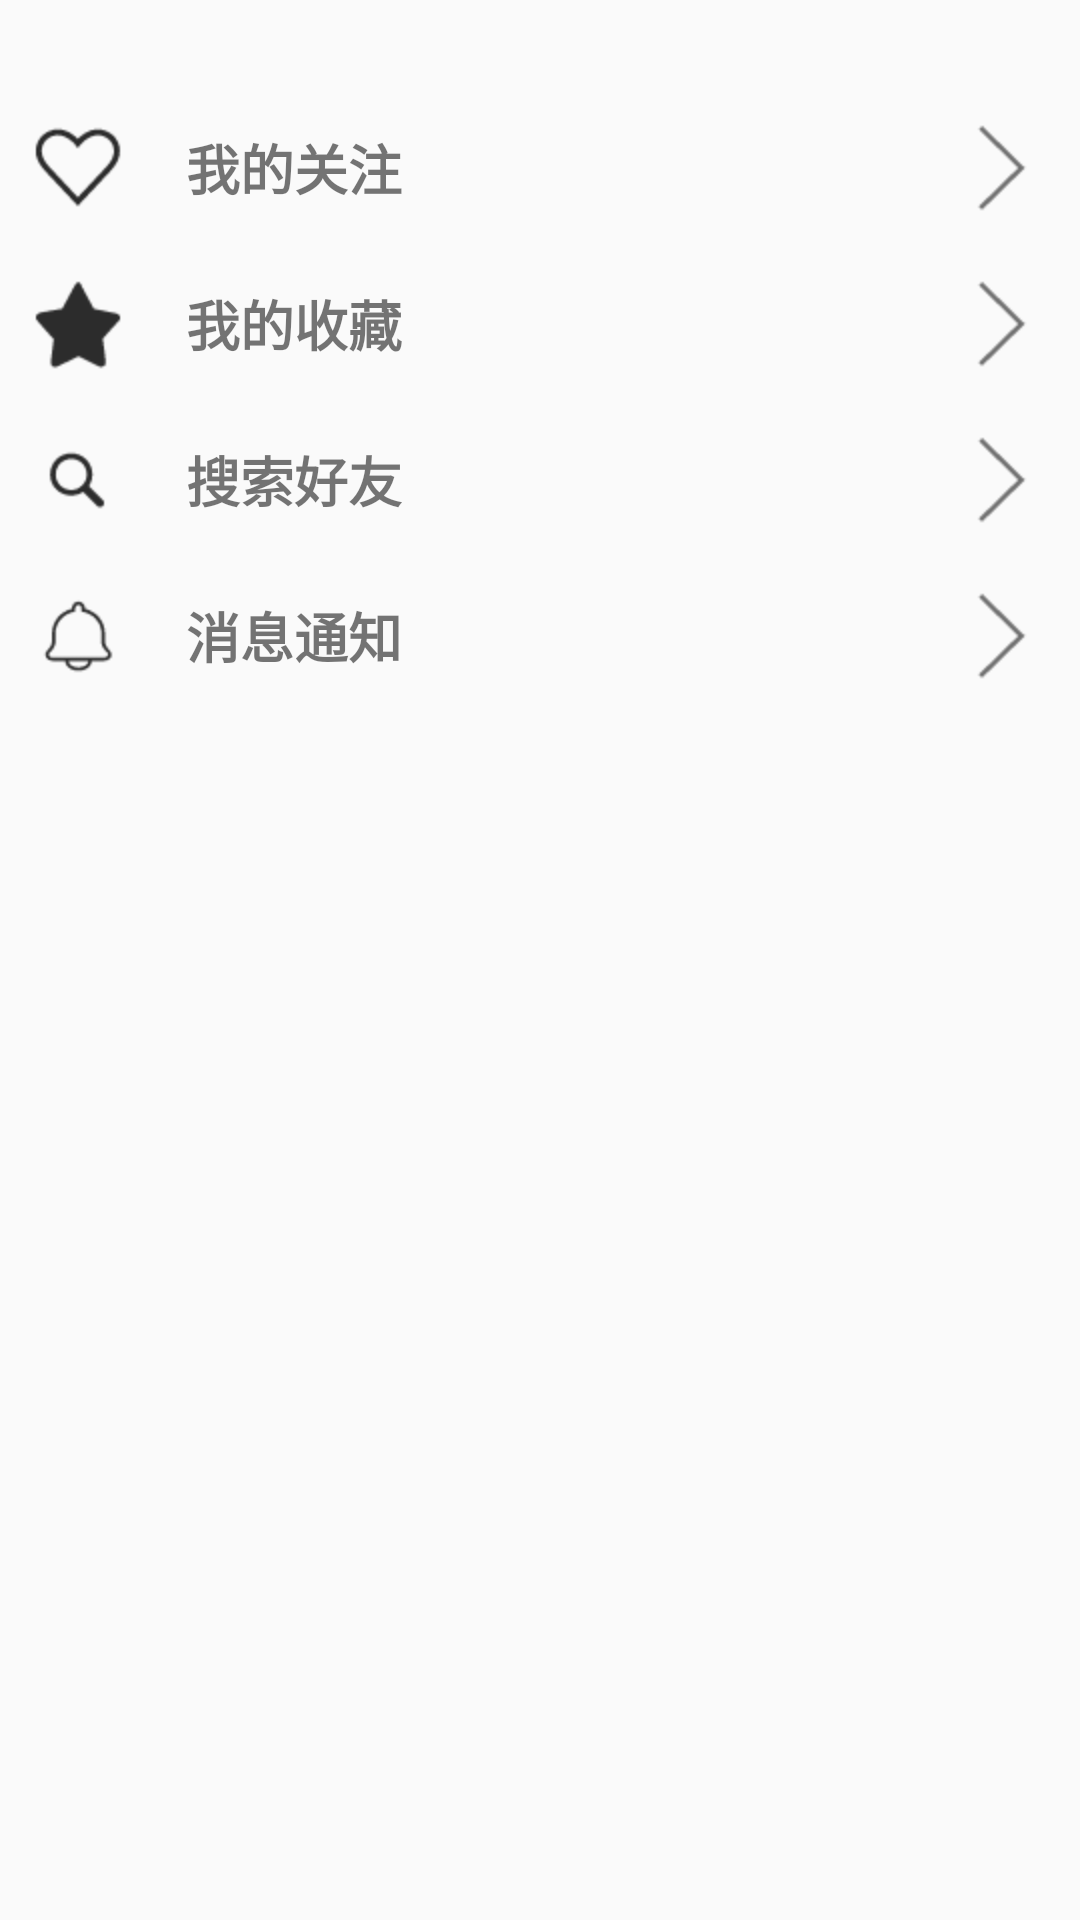

Icons on this 1080 x 1920 Android screen, each with the point to tap as (x=x, y=y):
collection: (x=78, y=324)
like: (x=78, y=167)
message: (x=78, y=636)
right: (x=1001, y=168), (x=1001, y=324), (x=1001, y=480), (x=1001, y=636)
search: (x=77, y=480)
